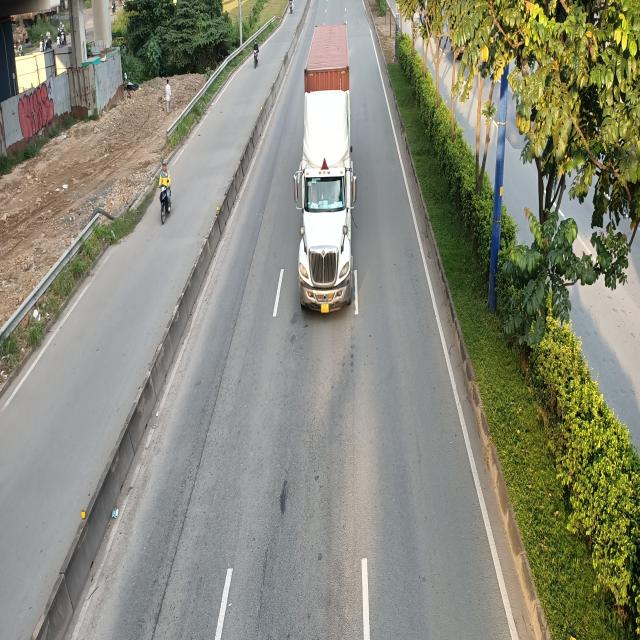container: (293, 21, 355, 312)
